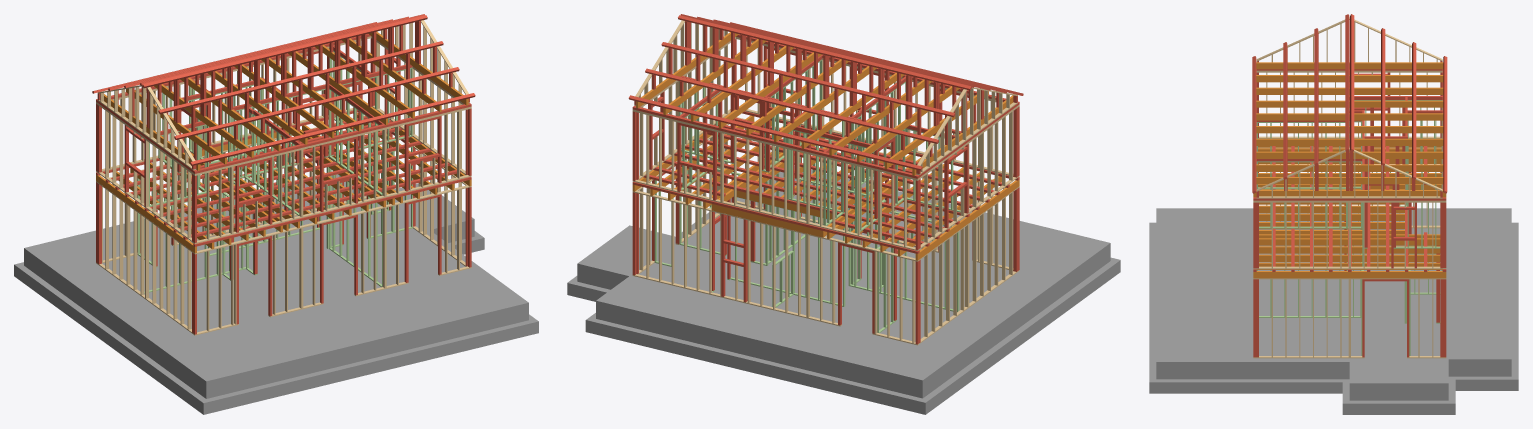
Rendered from Casa_Tipo1_Estrutura_Madeira.glb.
3 views of the same model, side by side, from view 1: azimuth 30°, elevation 25°; view 2: azimuth 150°, elevation 25°; view 3: azimuth 270°, elevation 25° (orthographic). The views are drawn at different scales.
Parts seen in each view (by area): view 1: Fundação | Laje, Fundação | Sapata corrida, Fundação | Muro perimetral (altura indicativa), Viga de apoio à cobertura S 01, Viga de apoio à cobertura S 02, Viga de apoio à cobertura S 03, Viga de apoio à cobertura S 04, Viga de amarração S, Barrote de pavimento 01, Barrote de pavimento 05, Barrote de pavimento 02, Viga de pavimento 01 (+19 smaller); view 2: Fundação | Laje, Fundação | Sapata corrida, Fundação | Muro perimetral (altura indicativa), Viga de apoio à cobertura N 02, Viga de apoio à cobertura N 04, Viga de apoio à cobertura N 01, Viga de apoio à cobertura N 03, Viga de amarração N, Barrote de pavimento 12, Viga de pavimento 01, Barrote de pavimento 09, Barrote de pavimento 07 (+20 smaller); view 3: Fundação | Laje, Fundação | Sapata corrida, Fundação | Muro perimetral (altura indicativa), Viga de pavimento 19, Viga de apoio ao teto 05, Viga de apoio ao teto 01, Viga de apoio ao teto 02, Viga de apoio ao teto 03, Viga de apoio ao teto 04, Viga de apoio ao teto 06, Viga de apoio ao teto 07, Viga de apoio ao teto 09 (+32 smaller).
Part boxes in pixels (bbox=[...]): Fundação | Laje: bbox=[24, 174, 528, 387]; Fundação | Sapata corrida: bbox=[14, 231, 538, 414]; Fundação | Muro perimetral (altura indicativa): bbox=[24, 225, 528, 398]; Viga de apoio à cobertura S 01: bbox=[142, 15, 427, 88]; Viga de apoio à cobertura S 02: bbox=[158, 41, 443, 113]; Viga de apoio à cobertura S 03: bbox=[174, 67, 459, 139]; Viga de apoio à cobertura S 04: bbox=[190, 93, 475, 165]; Viga de amarração S: bbox=[193, 103, 471, 173]; Barrote de pavimento 01: bbox=[193, 177, 471, 246]; Barrote de pavimento 05: bbox=[154, 148, 431, 218]; Barrote de pavimento 02: bbox=[183, 169, 461, 239]; Viga de pavimento 01: bbox=[96, 175, 196, 253]; Fundação | Laje: bbox=[577, 162, 1110, 386]; Fundação | Sapata corrida: bbox=[567, 257, 1120, 414]; Fundação | Muro perimetral (altura indicativa): bbox=[577, 249, 1110, 398]; Viga de apoio à cobertura N 02: bbox=[661, 42, 955, 117]; Viga de apoio à cobertura N 04: bbox=[628, 95, 922, 170]; Viga de apoio à cobertura N 01: bbox=[678, 15, 971, 90]; Viga de apoio à cobertura N 03: bbox=[645, 68, 938, 143]; Viga de amarração N: bbox=[632, 105, 919, 178]; Barrote de pavimento 12: bbox=[632, 182, 919, 253]; Viga de pavimento 01: bbox=[915, 179, 1019, 260]; Barrote de pavimento 09: bbox=[653, 167, 939, 239]; Barrote de pavimento 07: bbox=[674, 152, 959, 224]; Fundação | Laje: bbox=[1156, 208, 1511, 388]; Fundação | Sapata corrida: bbox=[1149, 222, 1518, 414]; Fundação | Muro perimetral (altura indicativa): bbox=[1156, 365, 1511, 400]; Viga de pavimento 19: bbox=[1253, 271, 1446, 278]; Viga de apoio ao teto 05: bbox=[1256, 113, 1443, 120]; Viga de apoio ao teto 01: bbox=[1256, 62, 1443, 69]; Viga de apoio ao teto 02: bbox=[1256, 75, 1443, 82]; Viga de apoio ao teto 03: bbox=[1256, 87, 1443, 94]; Viga de apoio ao teto 04: bbox=[1256, 100, 1443, 107]; Viga de apoio ao teto 06: bbox=[1256, 126, 1443, 133]; Viga de apoio ao teto 07: bbox=[1256, 138, 1443, 145]; Viga de apoio ao teto 09: bbox=[1256, 164, 1443, 171].
Bounding box in the file's own units: 13.55 × 8.38 × 11.7.
